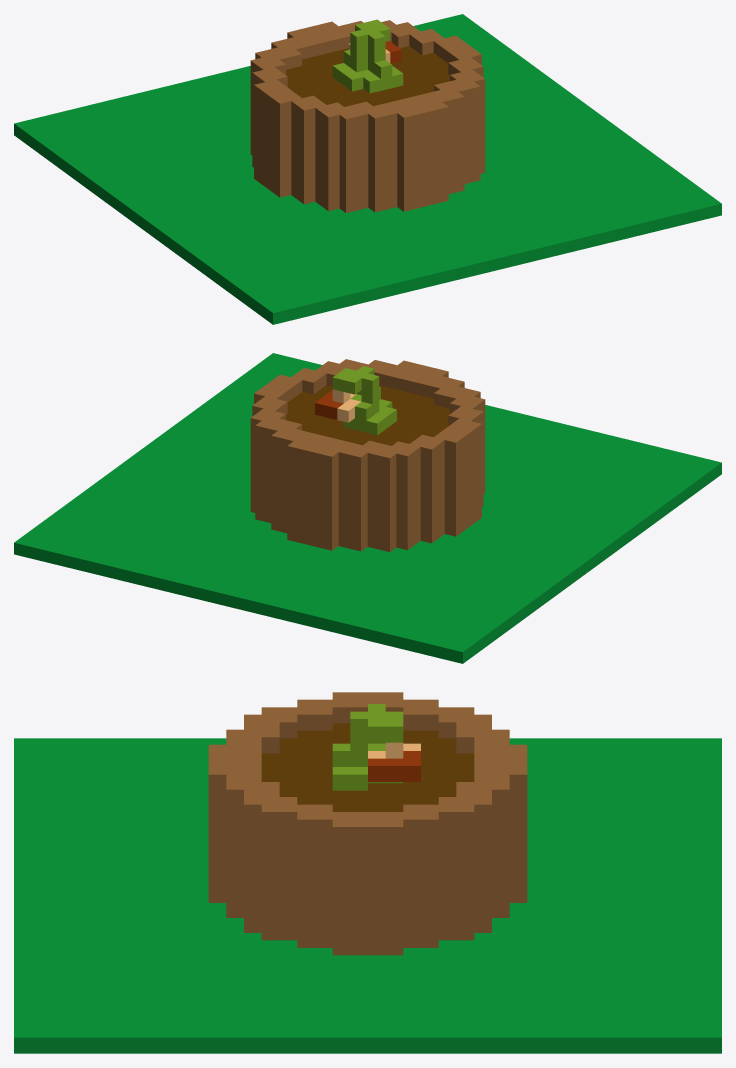
Rendered from Planta 3.glb.
3 views of the same model, one above another, from view 1: azimuth 30°, elevation 25°; view 2: azimuth 150°, elevation 25°; view 3: azimuth 270°, elevation 25° (orthographic). The views are drawn at different scales.
Visible parts, largest first — view 1: _0; view 2: _0; view 3: _0.
Boxes of the visible parts, x1=… form: _0: x1=14, y1=14, x2=721, y2=324; _0: x1=14, y1=353, x2=721, y2=663; _0: x1=14, y1=692, x2=721, y2=1053.
Bounding box in the file's own units: 40 × 12 × 40.
